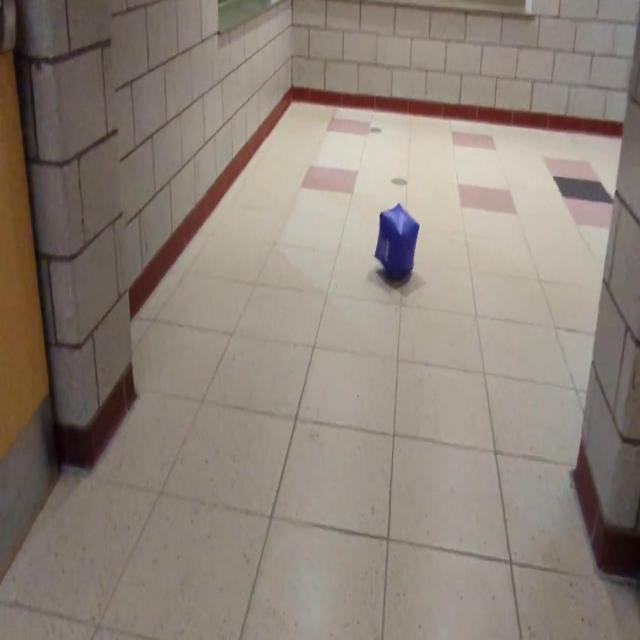frc_cube: (375, 204, 419, 278)
